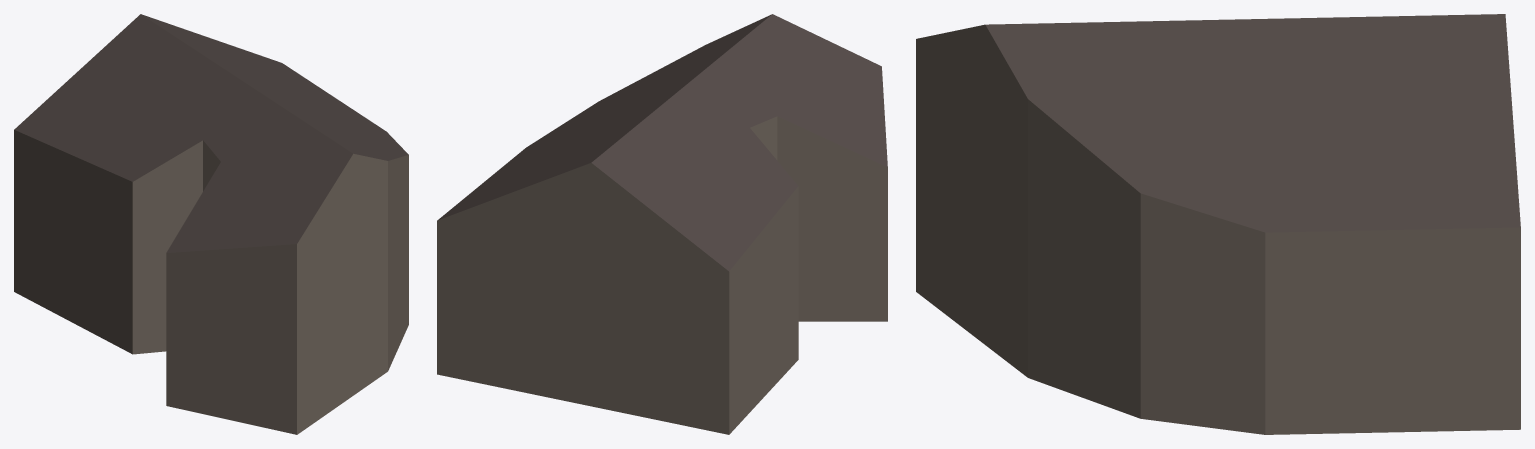
3 views of the same model, side by side, from view 1: azimuth 30°, elevation 25°; view 2: azimuth 150°, elevation 25°; view 3: azimuth 270°, elevation 25° (orthographic). The views are drawn at different scales.
Parts seen in each view (by area): view 1: HP-w1197052536; view 2: HP-w1197052536; view 3: HP-w1197052536.
Part boxes in pixels (bbox=[...]): HP-w1197052536: bbox=[14, 14, 408, 434]; HP-w1197052536: bbox=[437, 14, 887, 434]; HP-w1197052536: bbox=[916, 14, 1520, 434].
Size of the model in its own units: 17.88 by 14.26 by 24.38.
